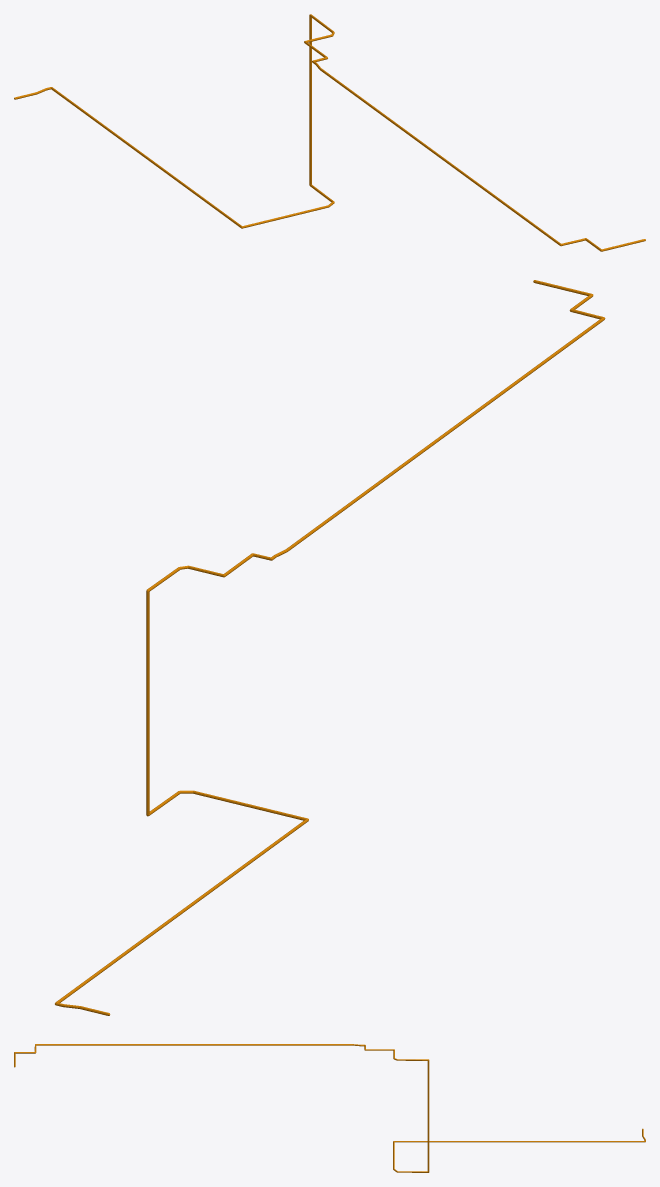
The picture shows the model from 3 angles, top to bottom: view 1: azimuth 30°, elevation 25°; view 2: azimuth 150°, elevation 25°; view 3: azimuth 270°, elevation 25°; orthographic projection. The views are drawn at different scales.
Bounding box in the file's own units: 1436 × 1520 × 7674.
